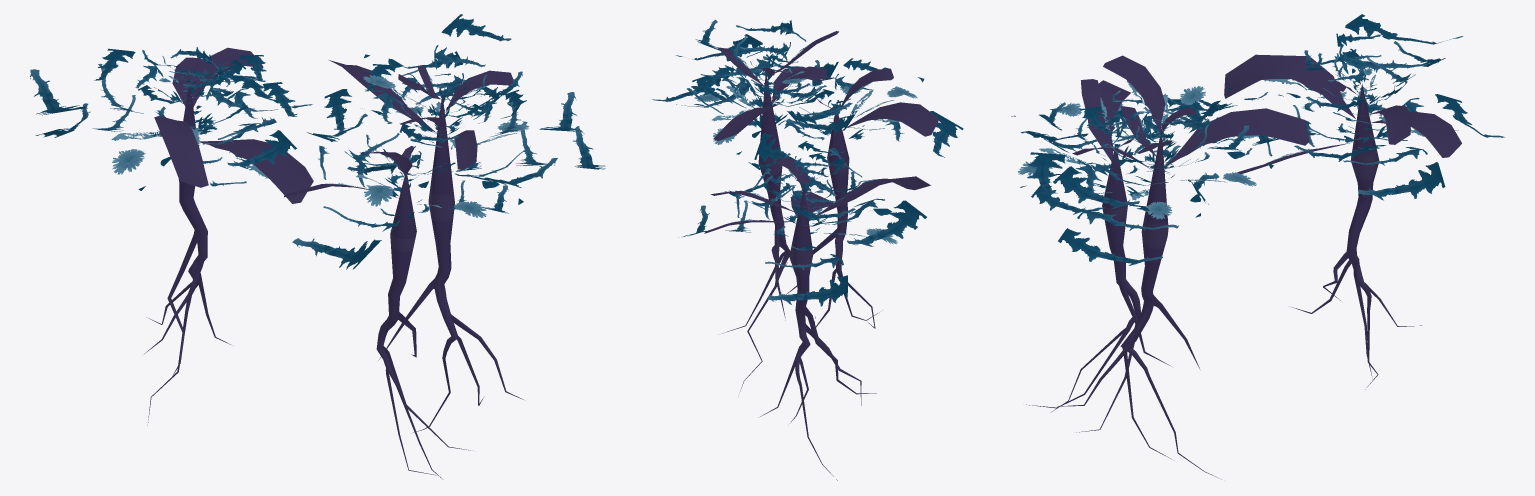
The picture shows the model from 3 angles, left to right: view 1: azimuth 30°, elevation 25°; view 2: azimuth 150°, elevation 25°; view 3: azimuth 270°, elevation 25°; orthographic projection. The views are drawn at different scales.
Parts seen in each view (by area): view 1: SM_FH_Dandelion_03_LOD0; view 2: SM_FH_Dandelion_03_LOD0; view 3: SM_FH_Dandelion_03_LOD0.
Boxes of the visible parts, x1,y1,x2,y2 form: SM_FH_Dandelion_03_LOD0: [30, 14, 605, 479]; SM_FH_Dandelion_03_LOD0: [652, 19, 963, 480]; SM_FH_Dandelion_03_LOD0: [1011, 14, 1505, 479].
Bounding box in the file's own units: 0.8158 × 0.7199 × 0.8682.
